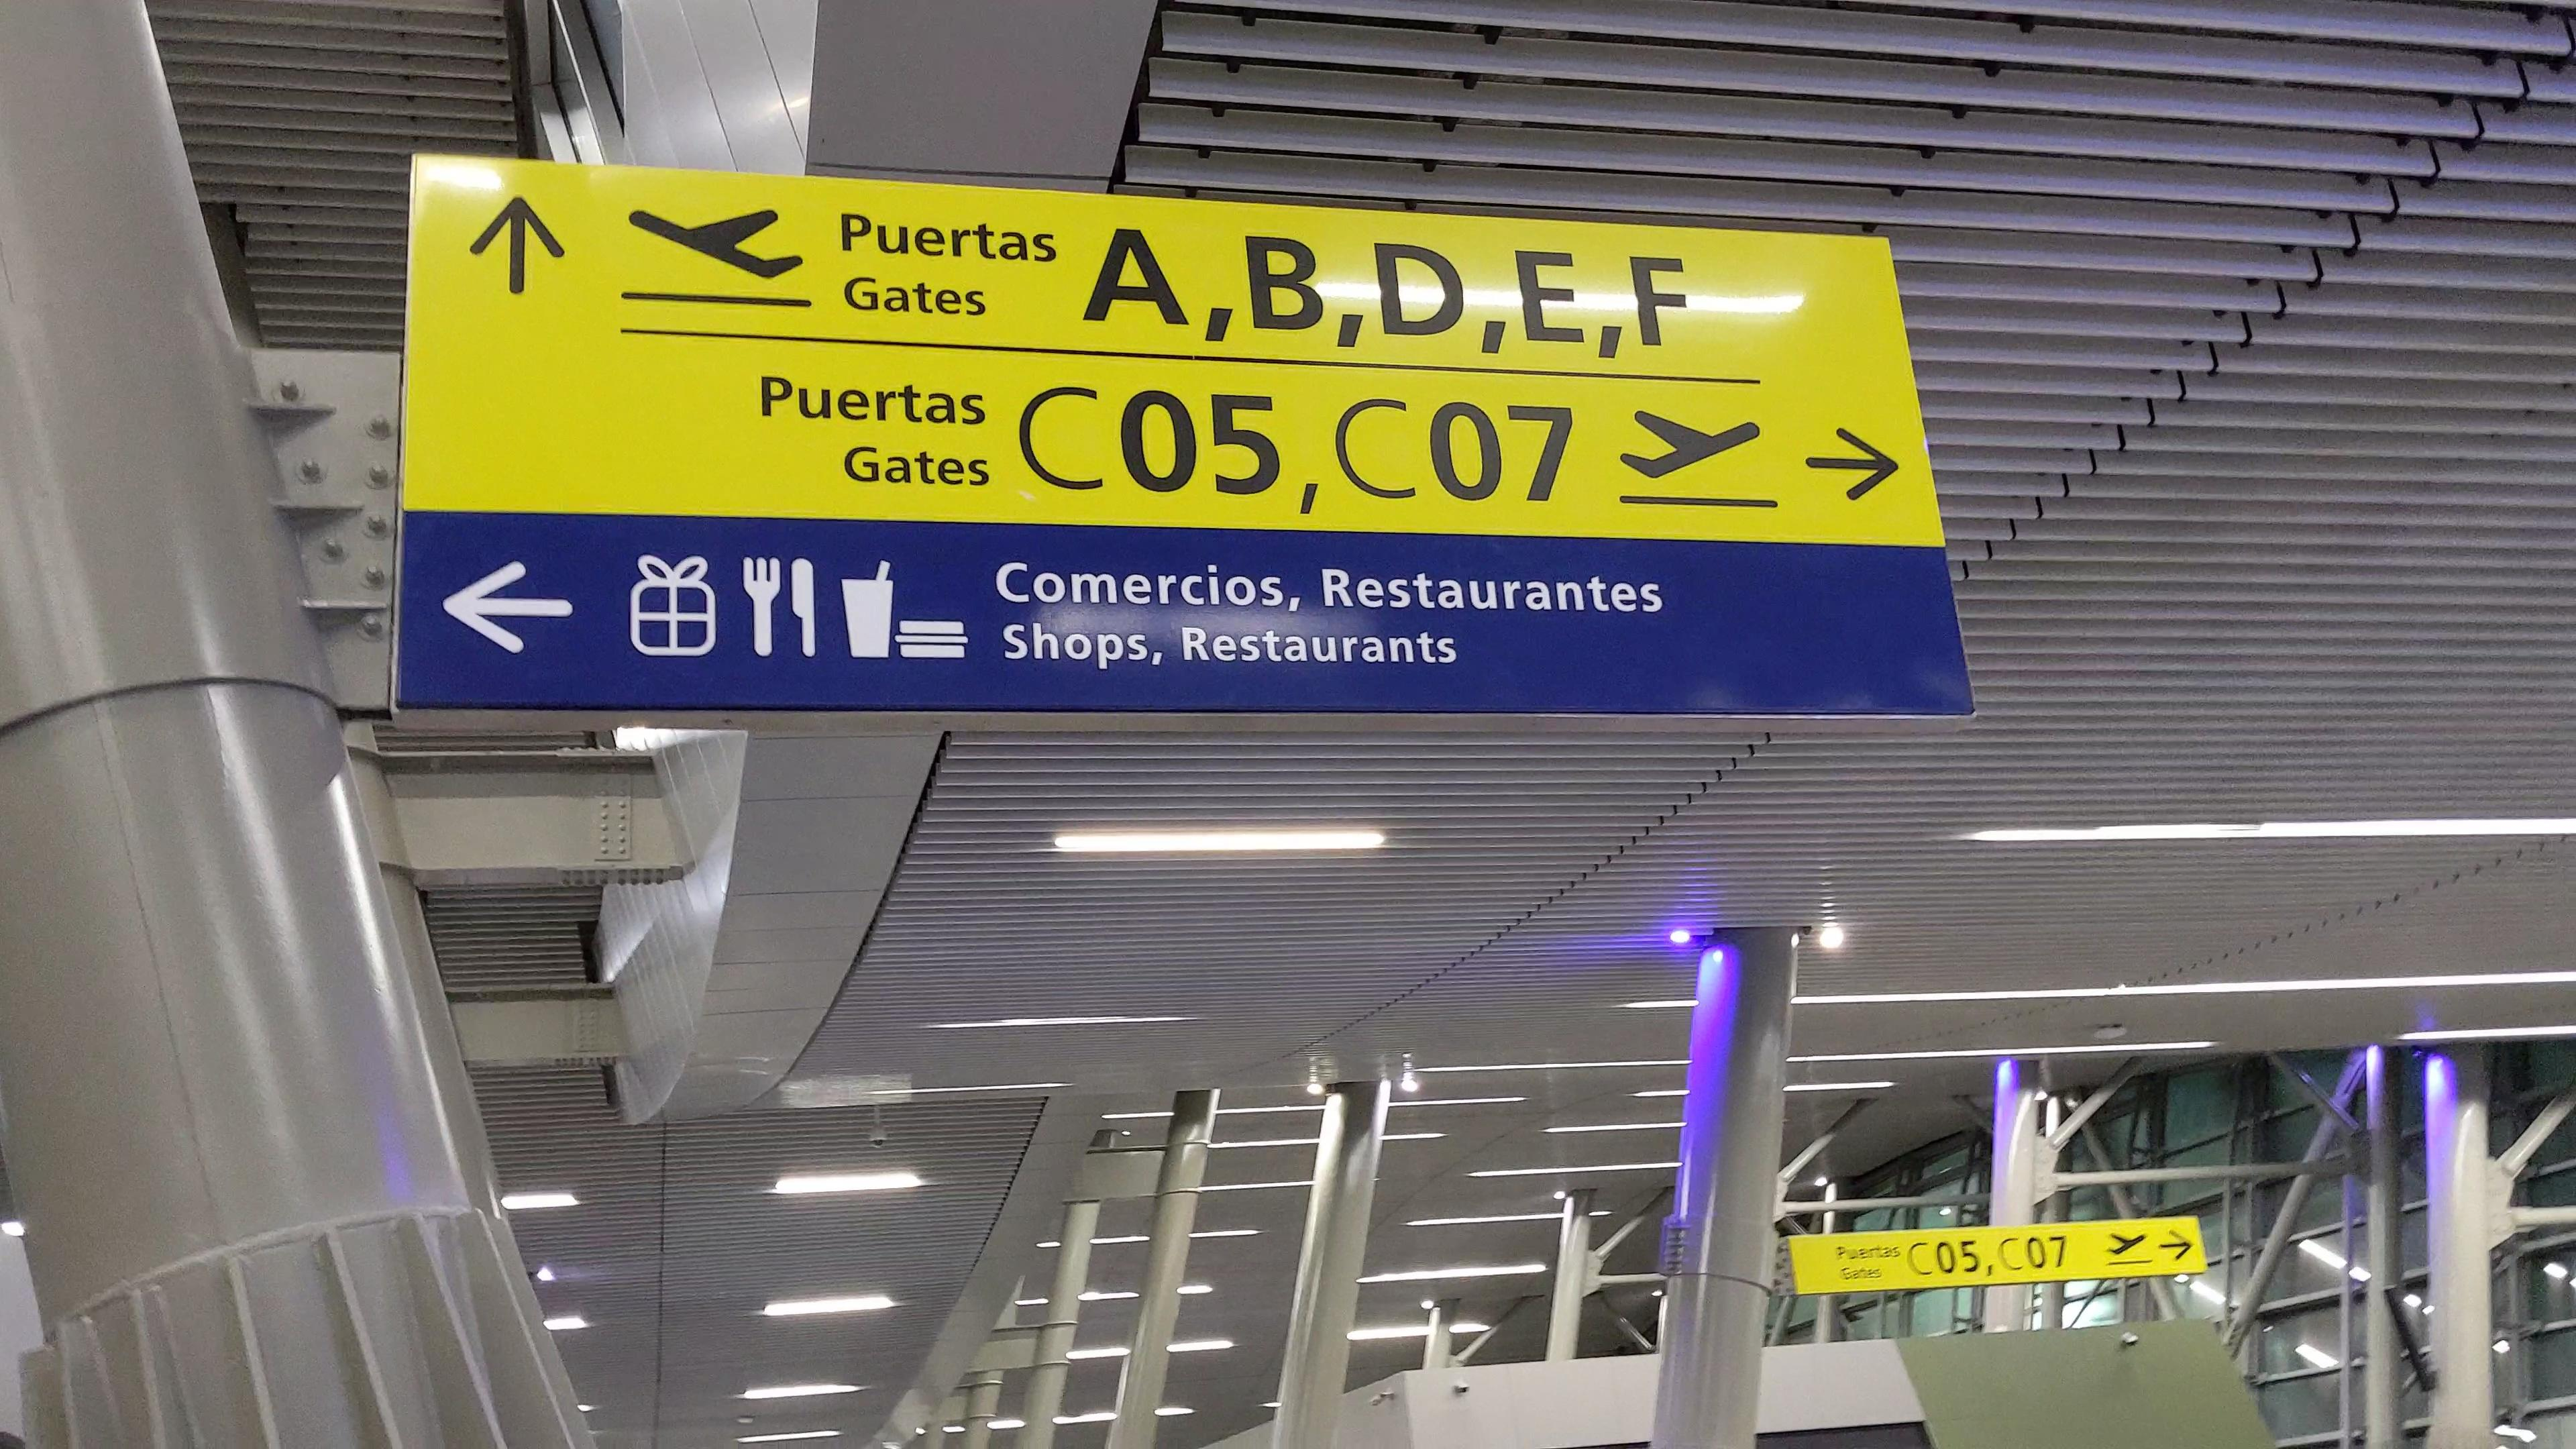airplane symbol: (621, 202, 810, 287), (1614, 405, 1764, 481)
bathrooms: (738, 554, 823, 658)
thin left arrow: (437, 561, 582, 655)
thin right arrow: (1803, 425, 1902, 504)
thin up arrow: (467, 191, 568, 299)
